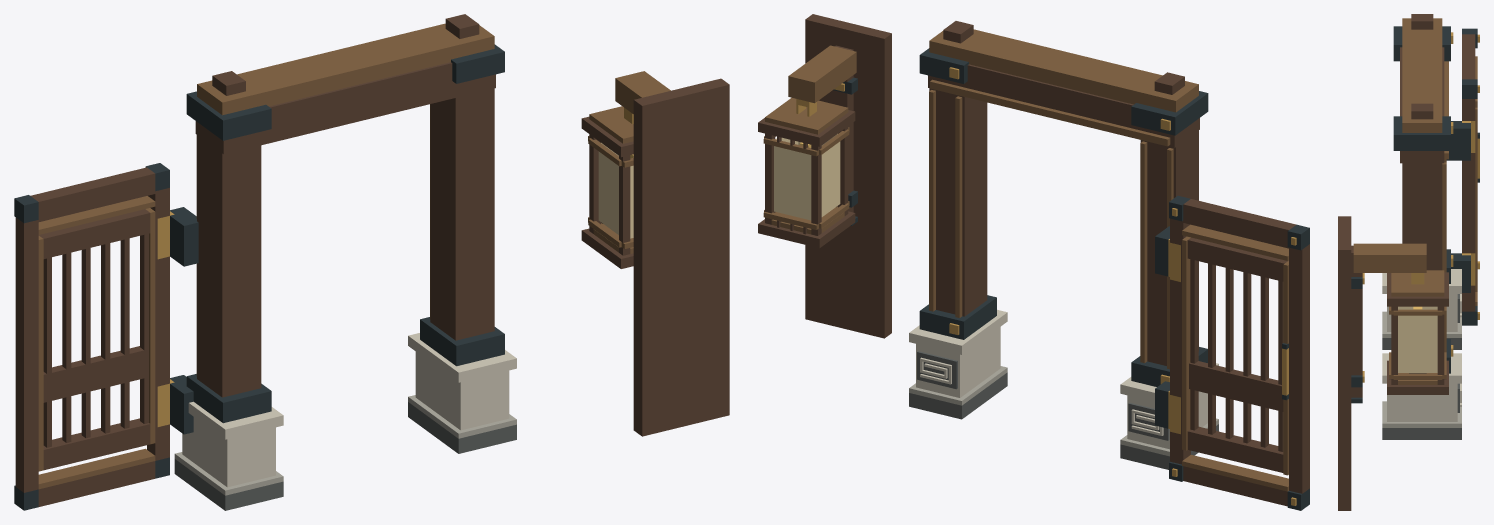
3 renders of one model, left to right at view 1: azimuth 30°, elevation 25°; view 2: azimuth 150°, elevation 25°; view 3: azimuth 270°, elevation 25°, orthographic. The views are drawn at different scales.
Visible parts, largest first — view 1: 旧木门柱石脚与门枋, 旧门侧展开门扇, 壁灯安装木墙 · 拼装辅件, 共享入口墙侧木纸灯笼; view 2: 旧木门柱石脚与门枋, 旧门侧展开门扇, 壁灯安装木墙 · 拼装辅件, 共享入口墙侧木纸灯笼; view 3: 旧木门柱石脚与门枋, 共享入口墙侧木纸灯笼, 旧门侧展开门扇, 壁灯安装木墙 · 拼装辅件.
Boxes of the visible parts, <box> form: 旧木门柱石脚与门枋: <box>170,14,516,510</box>; 旧门侧展开门扇: <box>14,163,169,510</box>; 壁灯安装木墙 · 拼装辅件: <box>633,78,729,436</box>; 共享入口墙侧木纸灯笼: <box>581,71,670,268</box>; 旧木门柱石脚与门枋: <box>909,21,1218,469</box>; 旧门侧展开门扇: <box>1169,195,1309,510</box>; 壁灯安装木墙 · 拼装辅件: <box>805,14,891,338</box>; 共享入口墙侧木纸灯笼: <box>758,45,857,248</box>; 旧木门柱石脚与门枋: <box>1382,14,1470,439</box>; 共享入口墙侧木纸灯笼: <box>1351,243,1448,397</box>; 旧门侧展开门扇: <box>1462,28,1479,325</box>; 壁灯安装木墙 · 拼装辅件: <box>1338,216,1362,510</box>.
Size of the model in its own units: 5.16 by 3.2 by 1.28.
Materials: 9 (9 with a texture image).
